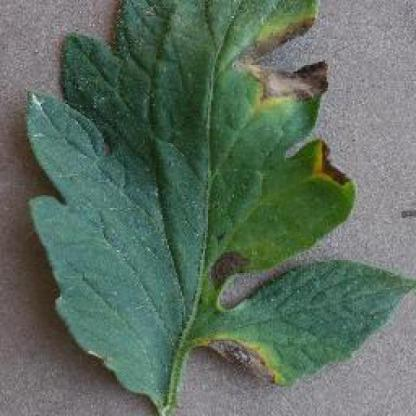Tomato_Blight: (23, 0, 413, 395)
